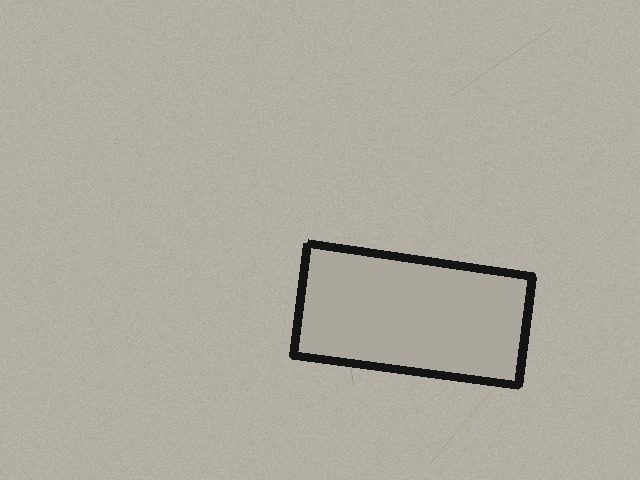parking_area: (293, 243, 532, 385)
